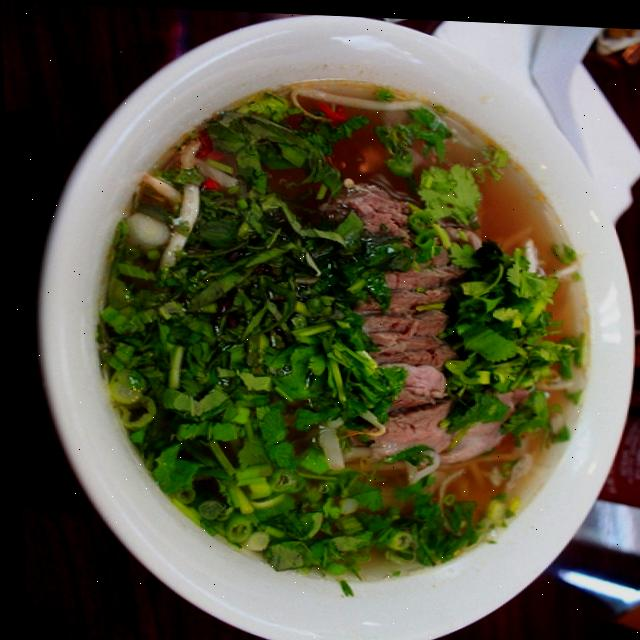面条主食: (32, 19, 639, 629)
